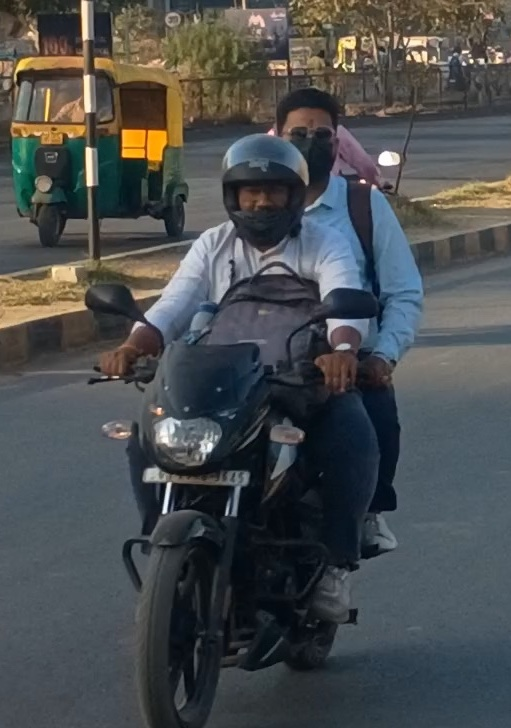BikeWithRider: (78, 88, 430, 728)
Helmet: (216, 126, 310, 248)
NoHelmet: (272, 89, 341, 190)
